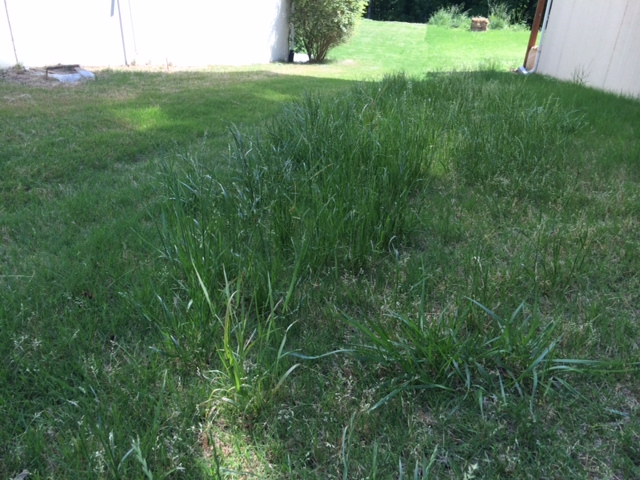grass: (1, 77, 640, 480)
